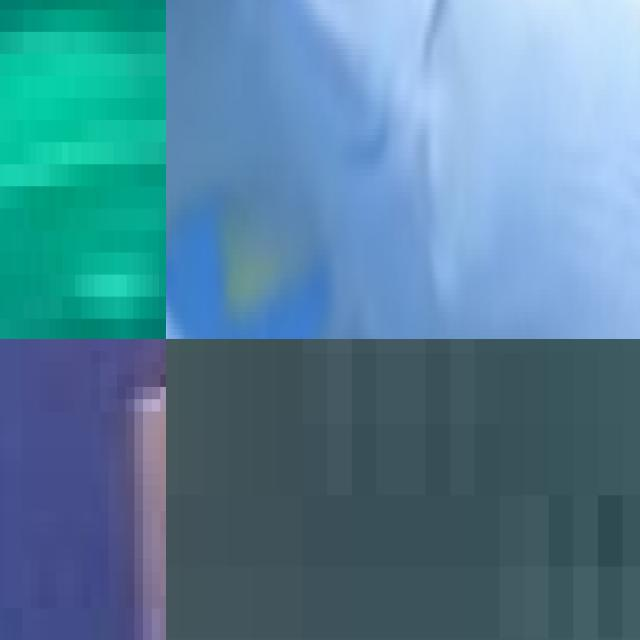fish: (166, 339, 640, 640), (0, 0, 166, 339), (0, 339, 166, 640)
